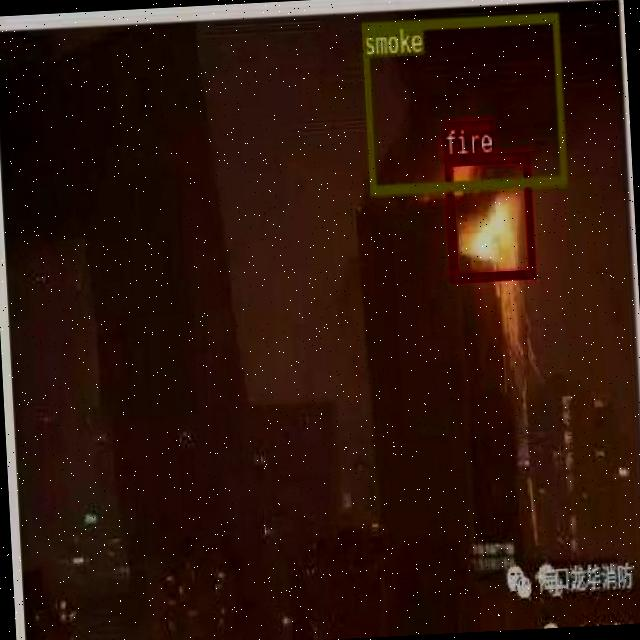fire: (444, 150, 534, 280)
smoke: (360, 10, 566, 194)
